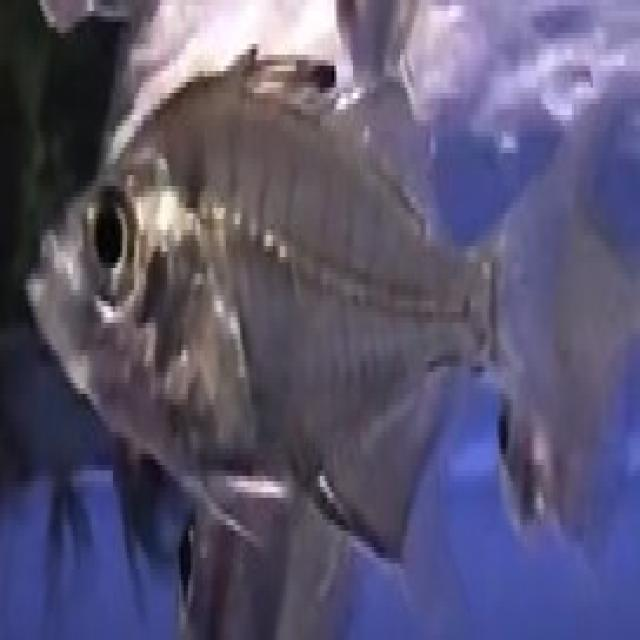Glass-Perchlet: (0, 65, 623, 586)
